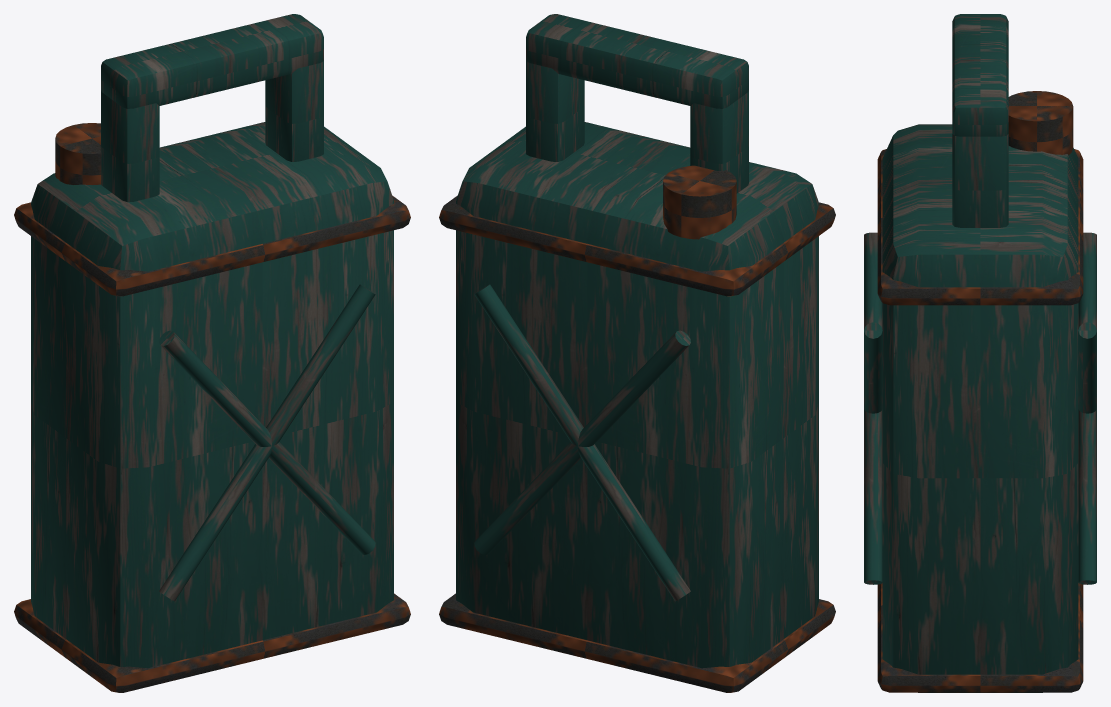
File: SM_MetalFuelContainer_82c21b683b.fbx
The picture shows the model from 3 angles, left to right: view 1: azimuth 30°, elevation 25°; view 2: azimuth 150°, elevation 25°; view 3: azimuth 270°, elevation 25°; orthographic projection. The views are drawn at different scales.
Visible parts, largest first — view 1: SM_MetalFuelContainer_82c21b683b; view 2: SM_MetalFuelContainer_82c21b683b; view 3: SM_MetalFuelContainer_82c21b683b.
Boxes of the visible parts, x1=… form: SM_MetalFuelContainer_82c21b683b: x1=14, y1=14, x2=410, y2=692; SM_MetalFuelContainer_82c21b683b: x1=439, y1=14, x2=835, y2=692; SM_MetalFuelContainer_82c21b683b: x1=864, y1=14, x2=1096, y2=692.
Size of what is drawn, in the model's own units: 33 by 22.6 by 62.
2 materials, 2 textured.
